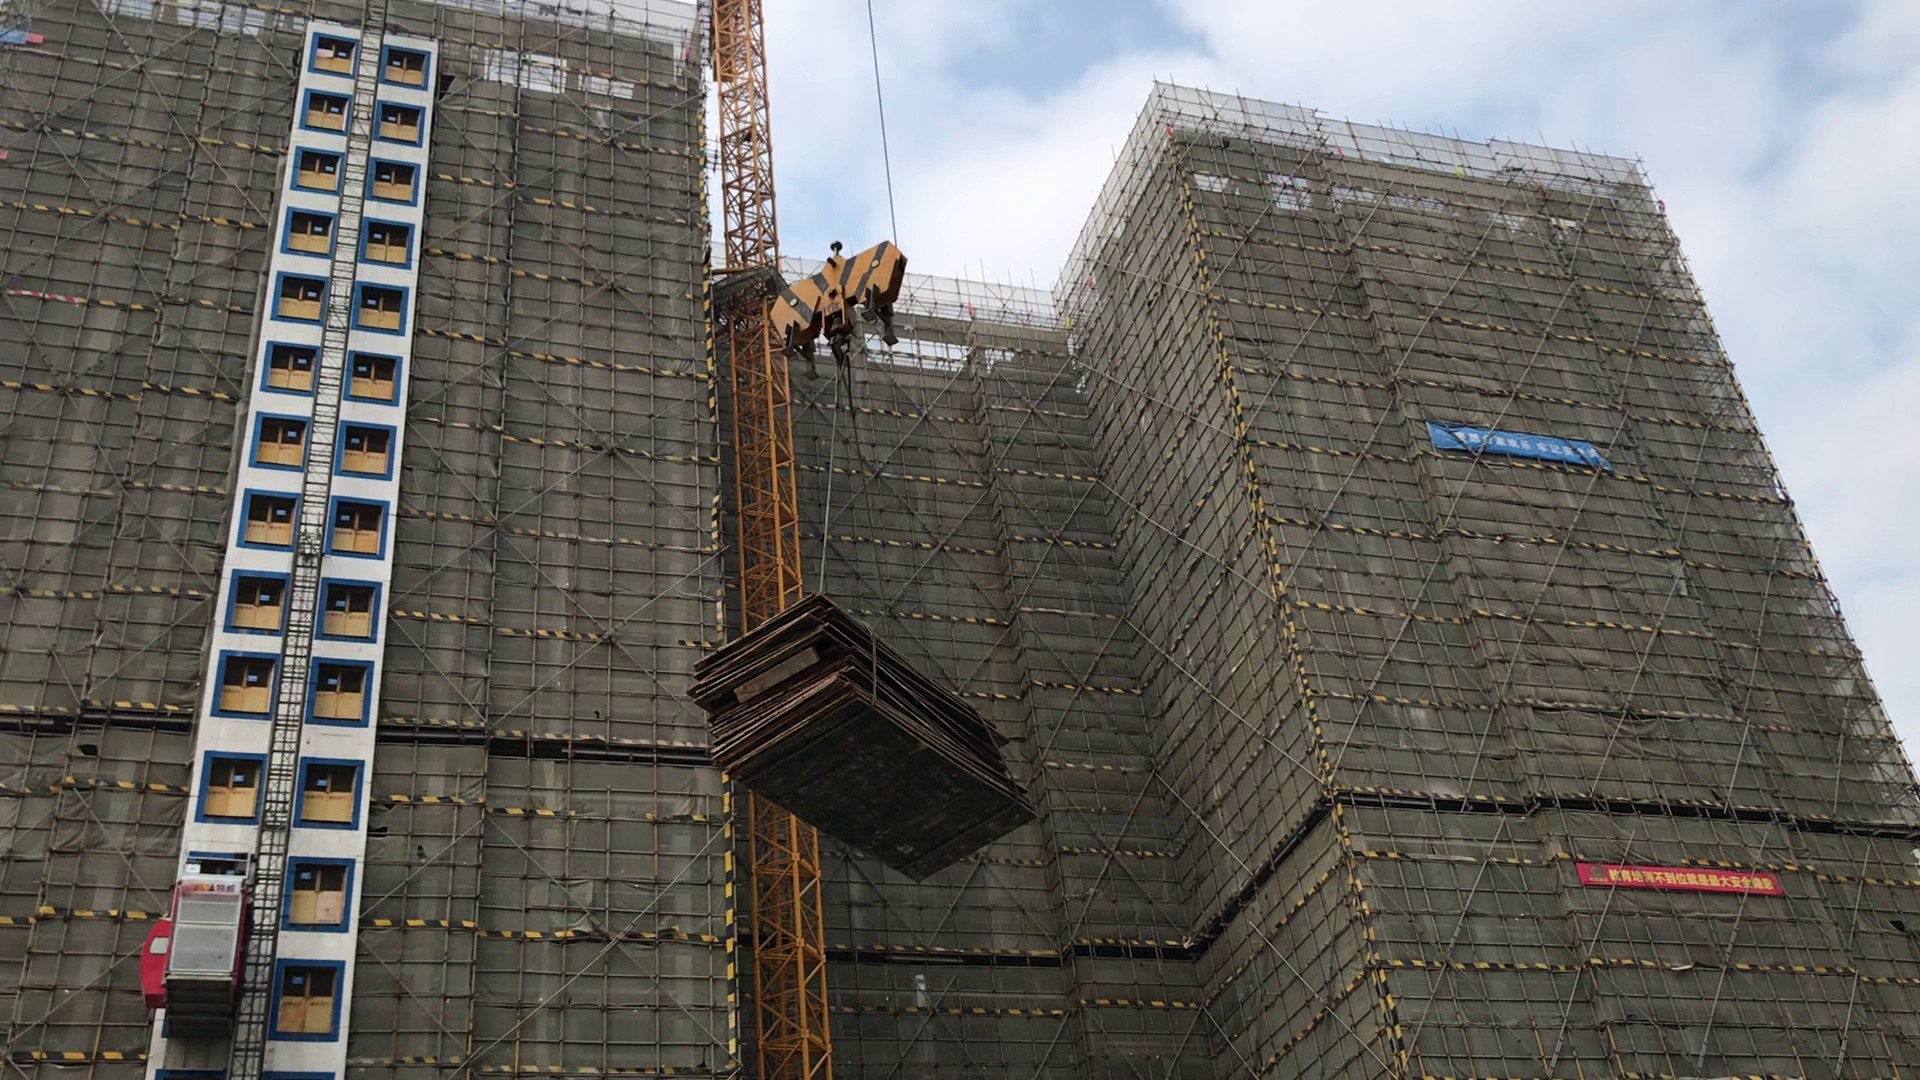board: (684, 593, 1043, 880)
hook: (771, 241, 905, 367)
slogan: (1422, 417, 1613, 468), (1576, 857, 1782, 899)
